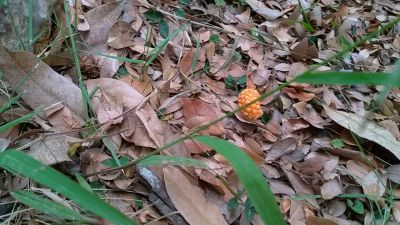eggs: (234, 86, 267, 122)
